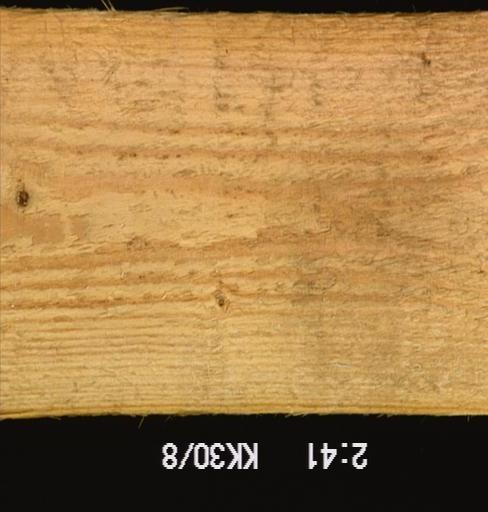small_knot: (404, 45, 437, 75), (207, 290, 232, 317)
